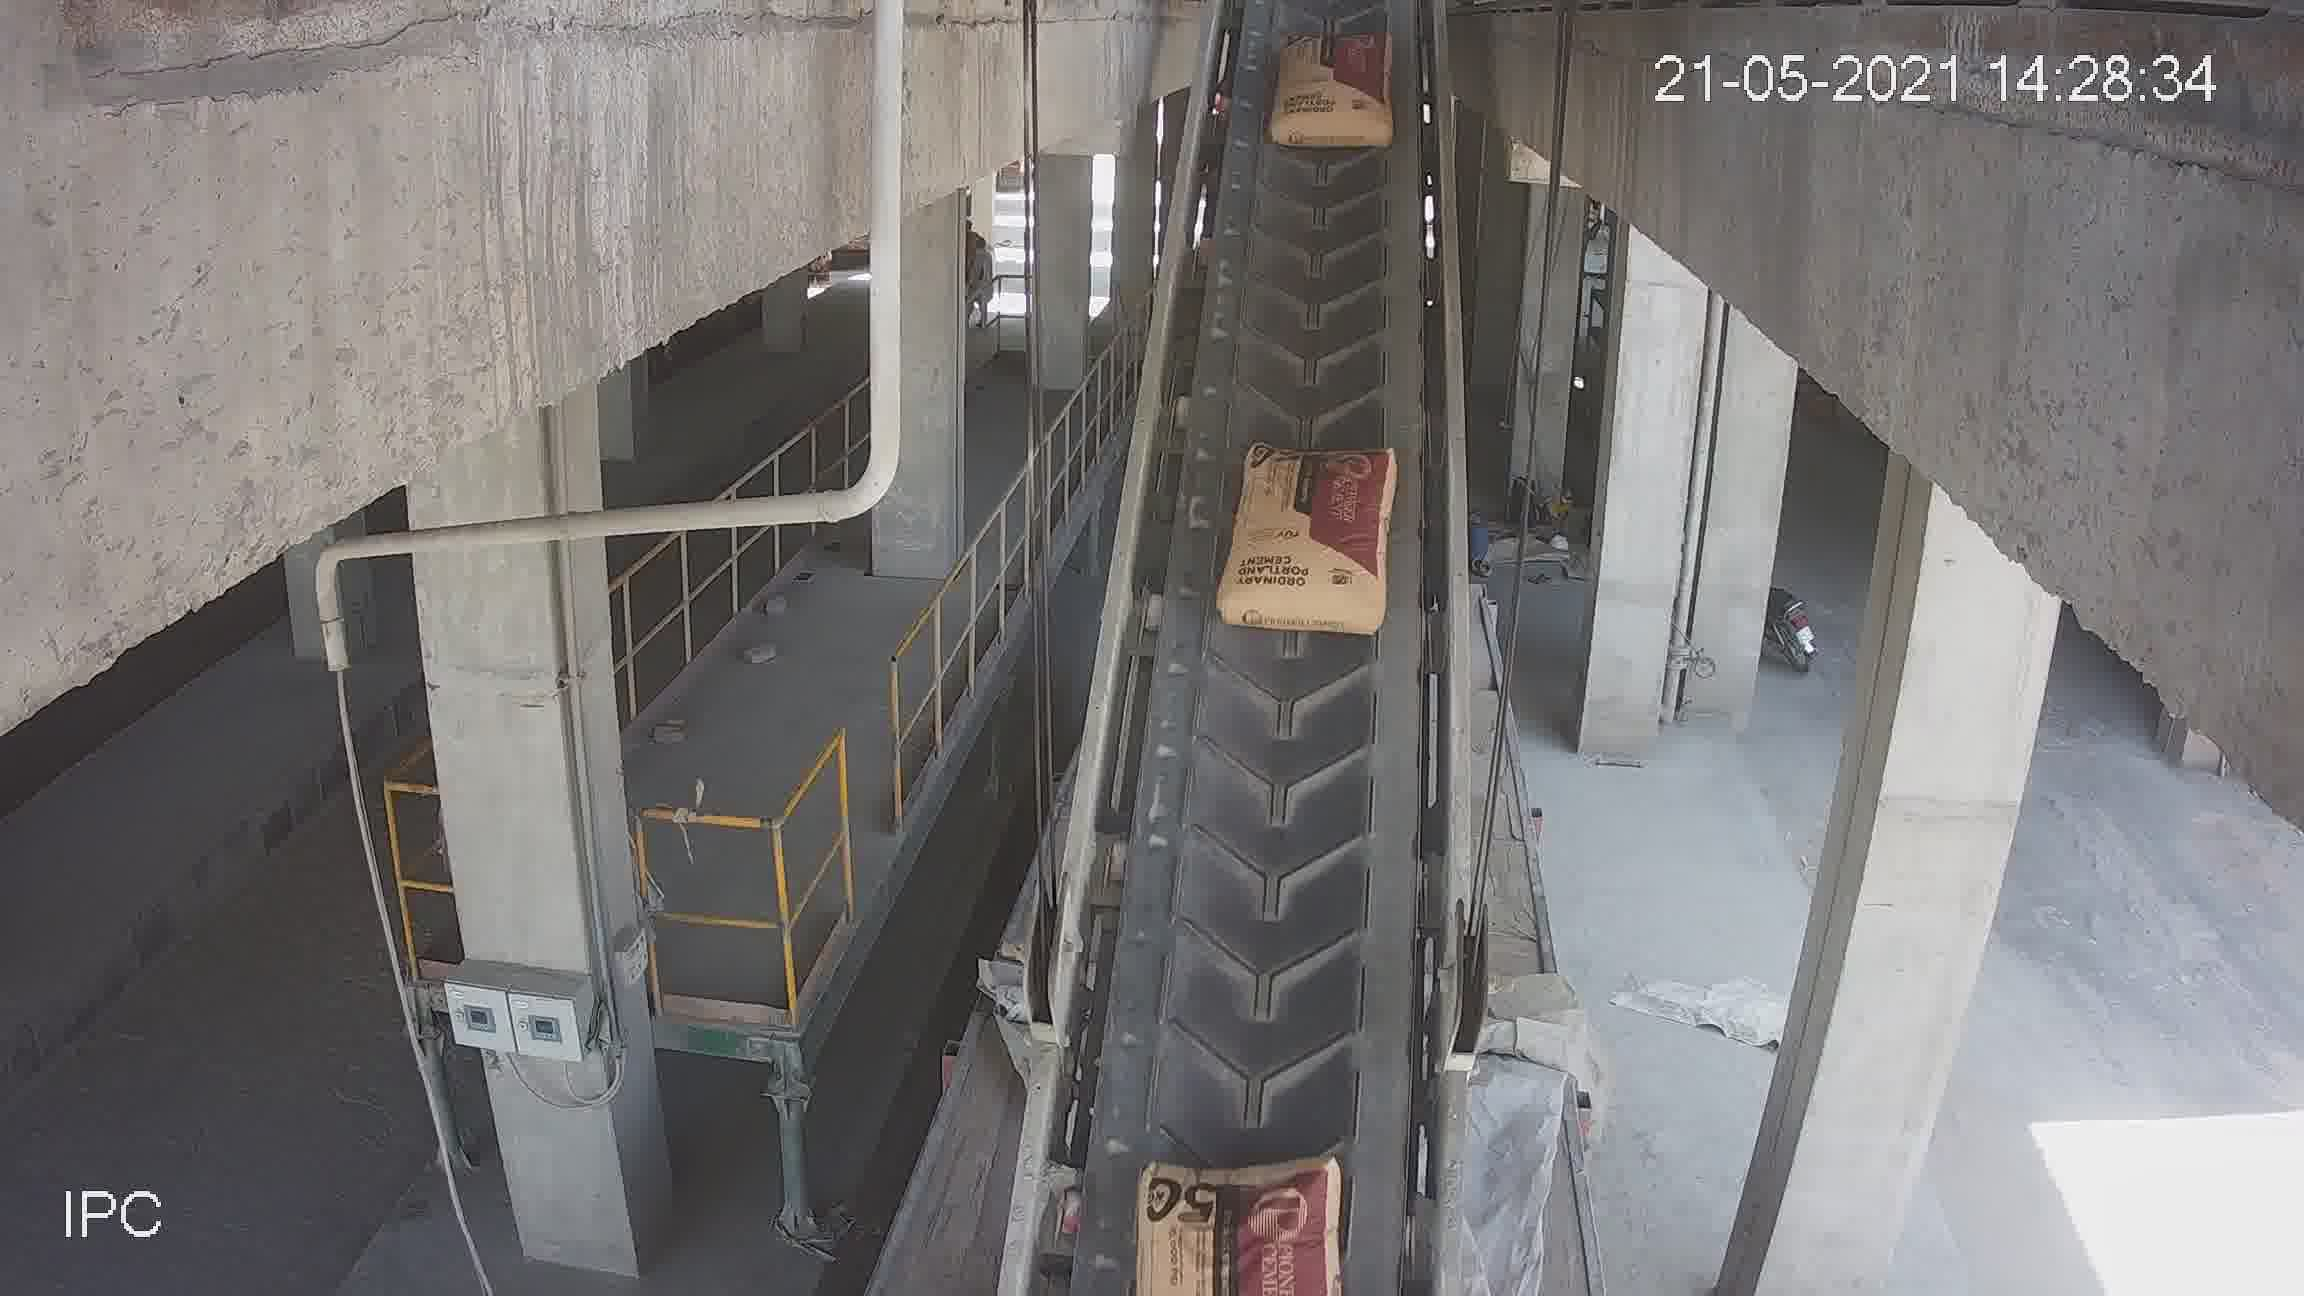bag: (1230, 453, 1388, 639), (1143, 1157, 1336, 1271), (1271, 40, 1388, 144)
belt: (1051, 25, 1472, 1252)
